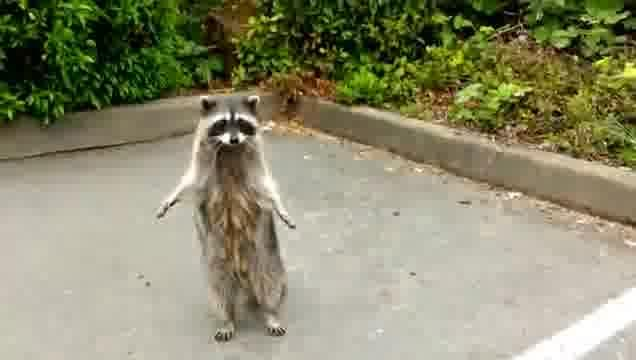raccoon: (154, 93, 299, 342)
